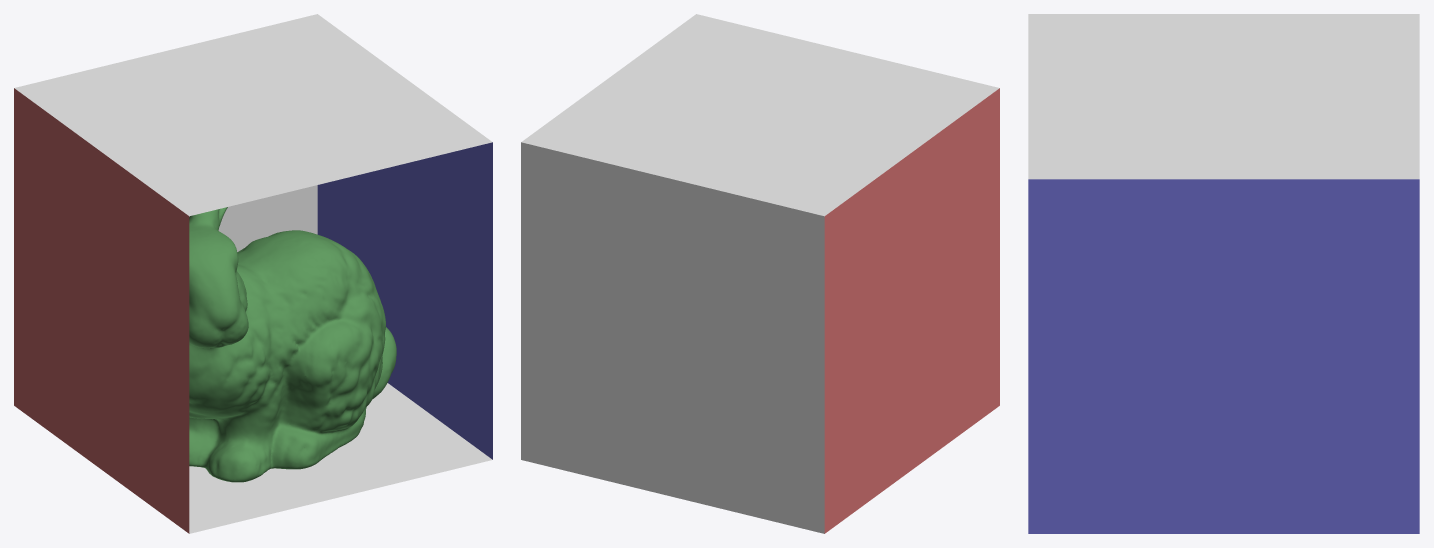
The model's file is bunny_100k_no_light.gltf.
The picture shows the model from 3 angles, left to right: view 1: azimuth 30°, elevation 25°; view 2: azimuth 150°, elevation 25°; view 3: azimuth 270°, elevation 25°; orthographic projection. The views are drawn at different scales.
Visible parts, largest first — view 1: Plane.004, Plane.001, bunny, Plane.003, Plane, Plane.002; view 2: Plane.002, Plane.004, Plane.001; view 3: Plane.003, Plane.001.
Part boxes in pixels (x1,y1,x2,y2): Plane.004: (14,88,189,533); Plane.001: (14,14,492,216); bunny: (189,207,396,482); Plane.003: (317,142,492,459); Plane: (189,383,492,533); Plane.002: (189,185,317,251); Plane.002: (521,142,824,533); Plane.004: (824,88,999,533); Plane.001: (521,14,999,216); Plane.003: (1028,179,1419,533); Plane.001: (1028,14,1419,179).
Bounding box in the file's own units: 4 × 4 × 4.
